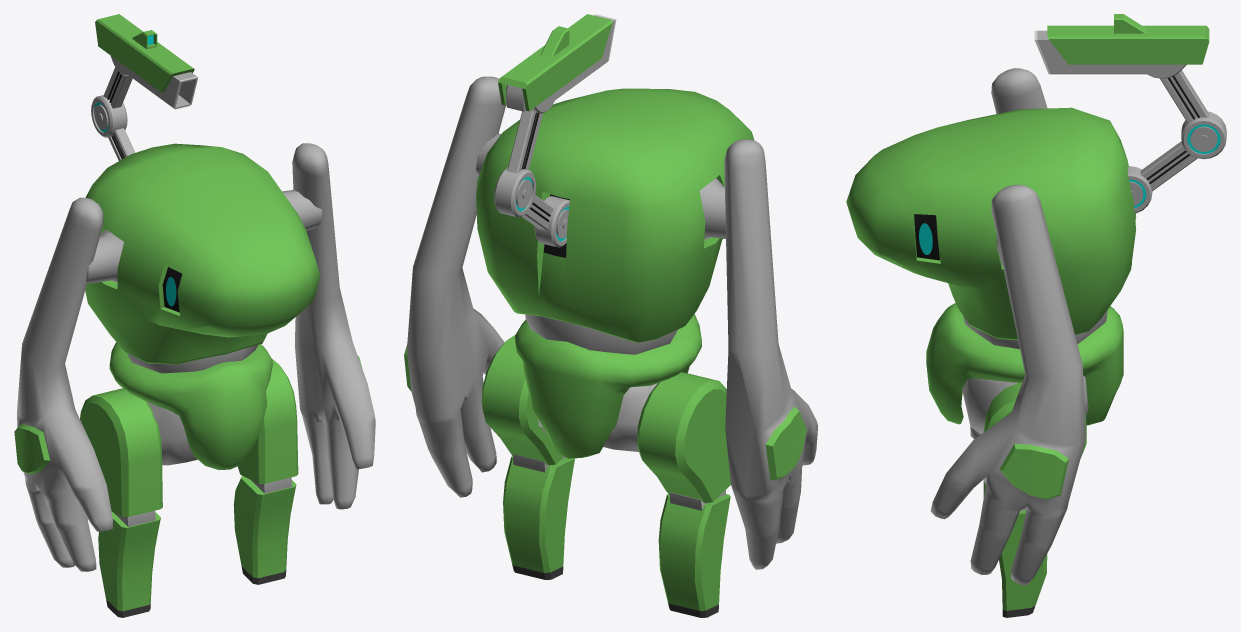
Rendered from Wait_02.fbx.
The picture shows the model from 3 angles, left to right: view 1: azimuth 30°, elevation 25°; view 2: azimuth 150°, elevation 25°; view 3: azimuth 270°, elevation 25°; orthographic projection. The views are drawn at different scales.
Visible parts, largest first — view 1: atama1, L_ude2, L_ude1, kosi1, L_asi6, L_asi3, pCylinder14, L_asi5, L_asi2, pCylinder37, pCylinder13, pCylinder11; view 2: atama1, L_ude2, L_ude1, kosi1, L_asi6, L_asi3, L_asi5, pCylinder14, L_asi2, pCylinder37, pCylinder13, pCylinder6 (+1 smaller); view 3: atama1, L_ude1, kosi1, pCylinder14, L_asi3, L_ude2, pCylinder37, pCylinder11, pCylinder13, L_asi2, pCylinder6.
Part boxes in pixels (<box>): atama1: <box>85,143,321,373</box>; L_ude2: <box>14,197,113,571</box>; L_ude1: <box>292,143,375,509</box>; kosi1: <box>109,342,272,469</box>; L_asi6: <box>80,388,162,526</box>; L_asi3: <box>233,475,296,584</box>; pCylinder14: <box>95,14,198,109</box>; L_asi5: <box>98,512,160,617</box>; L_asi2: <box>237,359,298,493</box>; pCylinder37: <box>91,95,127,137</box>; pCylinder13: <box>103,67,132,108</box>; pCylinder11: <box>108,128,135,160</box>; atama1: <box>476,88,753,354</box>; L_ude2: <box>724,139,817,569</box>; L_ude1: <box>404,76,505,497</box>; kosi1: <box>515,314,701,458</box>; L_asi6: <box>637,372,730,510</box>; L_asi3: <box>503,456,574,579</box>; L_asi5: <box>658,494,730,617</box>; pCylinder14: <box>498,14,616,113</box>; L_asi2: <box>481,335,565,472</box>; pCylinder37: <box>494,167,535,217</box>; pCylinder13: <box>507,110,542,173</box>; pCylinder6: <box>534,196,569,247</box>; atama1: <box>846,107,1136,349</box>; L_ude1: <box>930,184,1085,585</box>; kosi1: <box>926,303,1123,434</box>; pCylinder14: <box>1034,14,1209,78</box>; L_asi3: <box>999,510,1047,617</box>; L_ude2: <box>970,68,1047,439</box>; pCylinder37: <box>1181,111,1226,159</box>; pCylinder11: <box>1140,141,1197,191</box>; pCylinder13: <box>1160,70,1208,122</box>; L_asi2: <box>983,383,1086,511</box>; pCylinder6: <box>1127,166,1152,213</box>.
Bounding box in the file's own units: 2.29 × 3.5 × 2.16.
